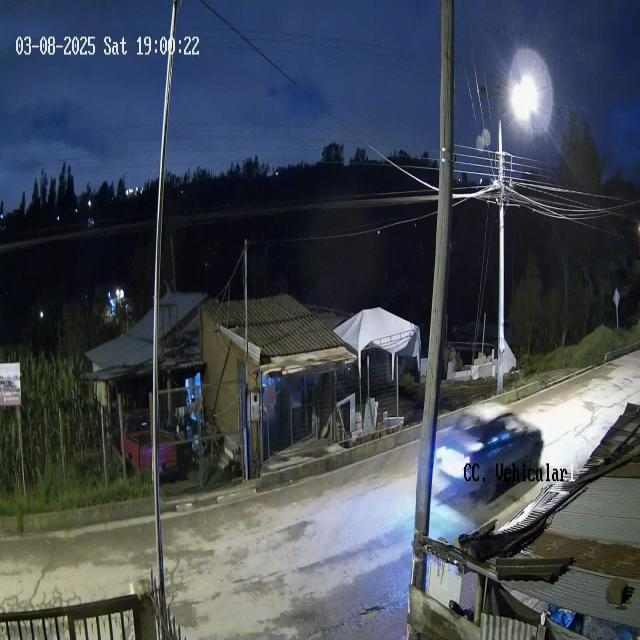SED: (433, 403, 542, 507)
